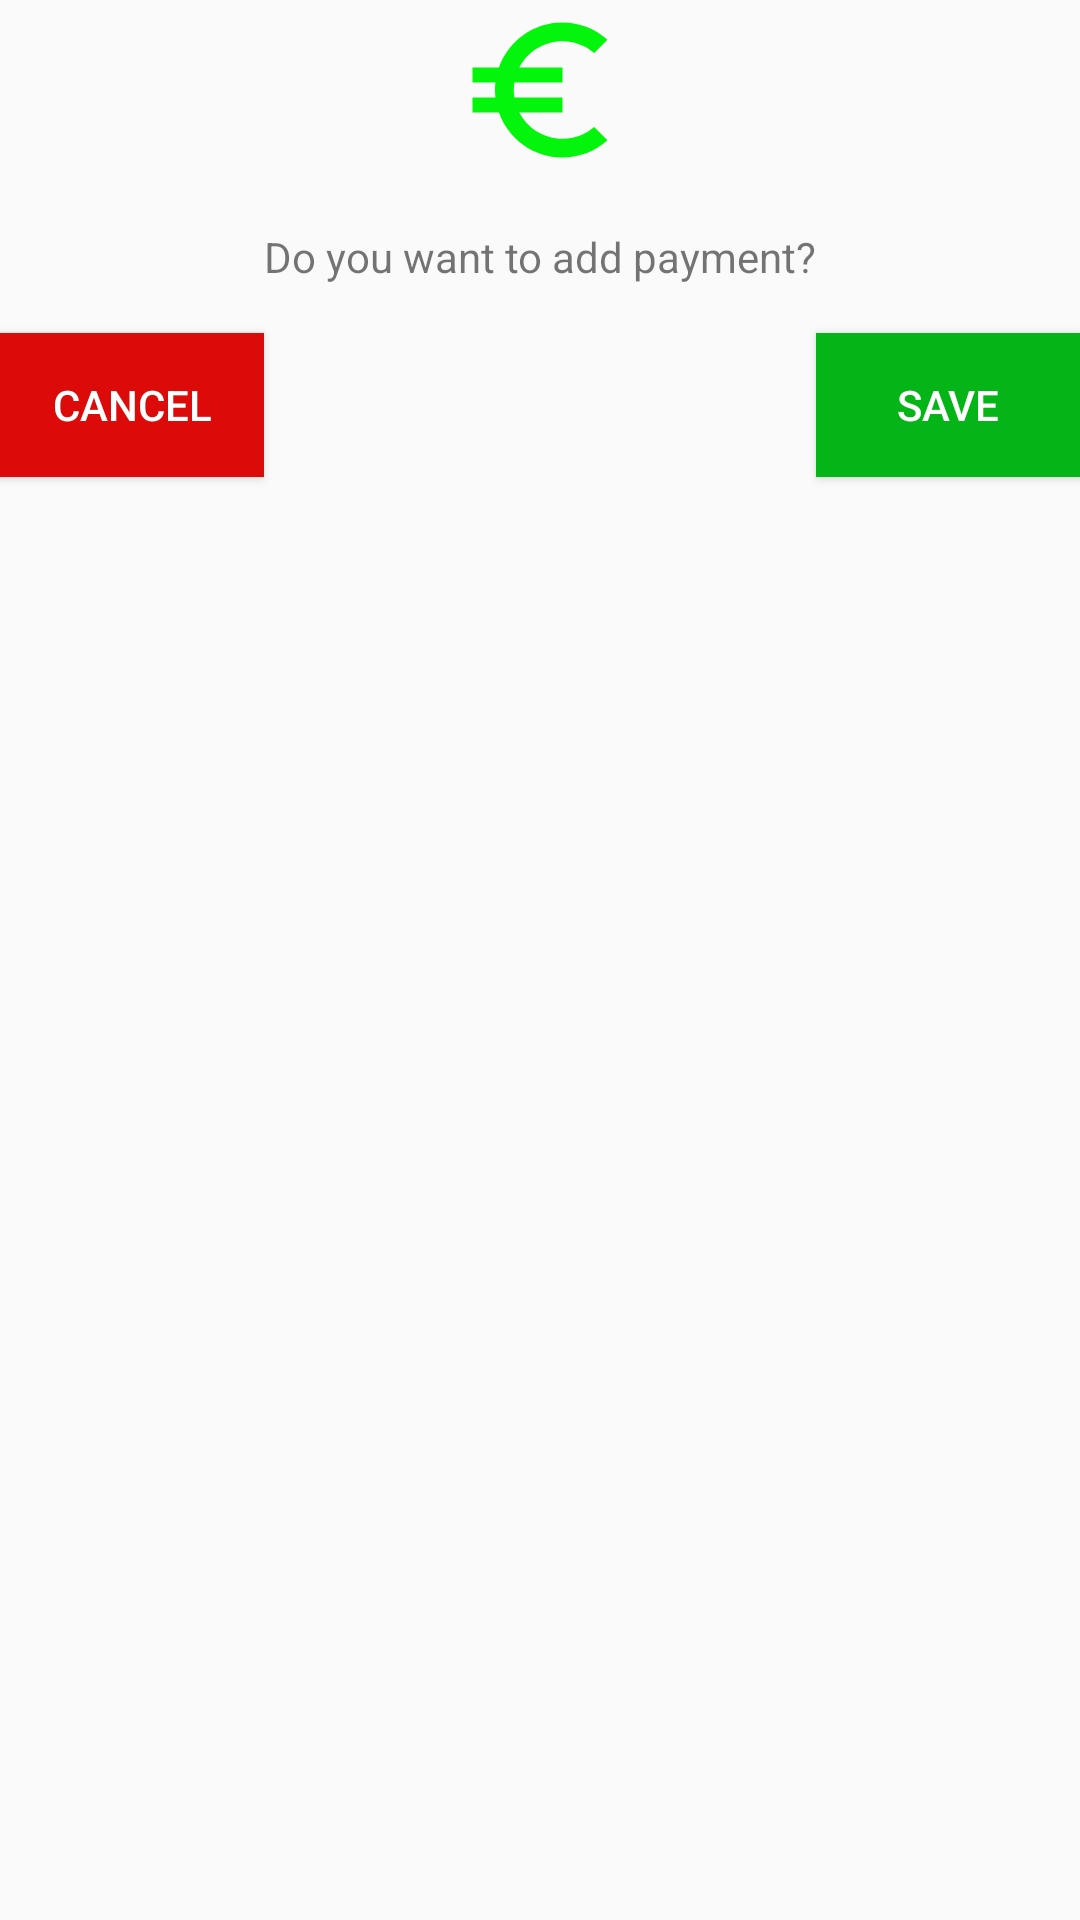

Icons on this 1080x1920 Android screen, each with its box as (x1, y1, x2, y2):
euro symbol: (472, 22, 608, 158)
